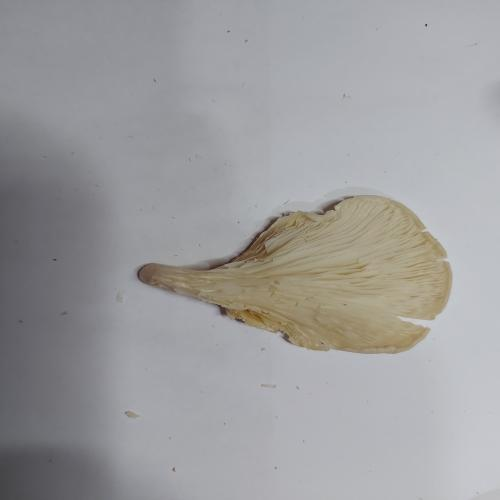Oyster Mushroom: (137, 193, 453, 355)
